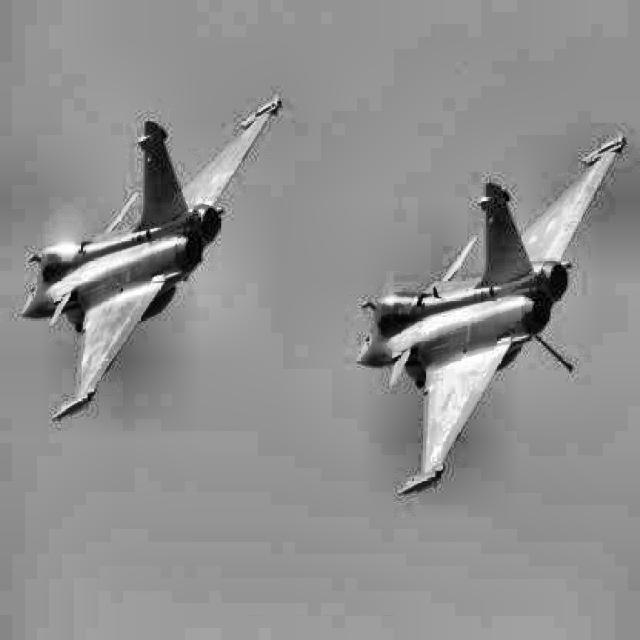Rafale: (355, 131, 628, 497), (22, 96, 283, 422)
